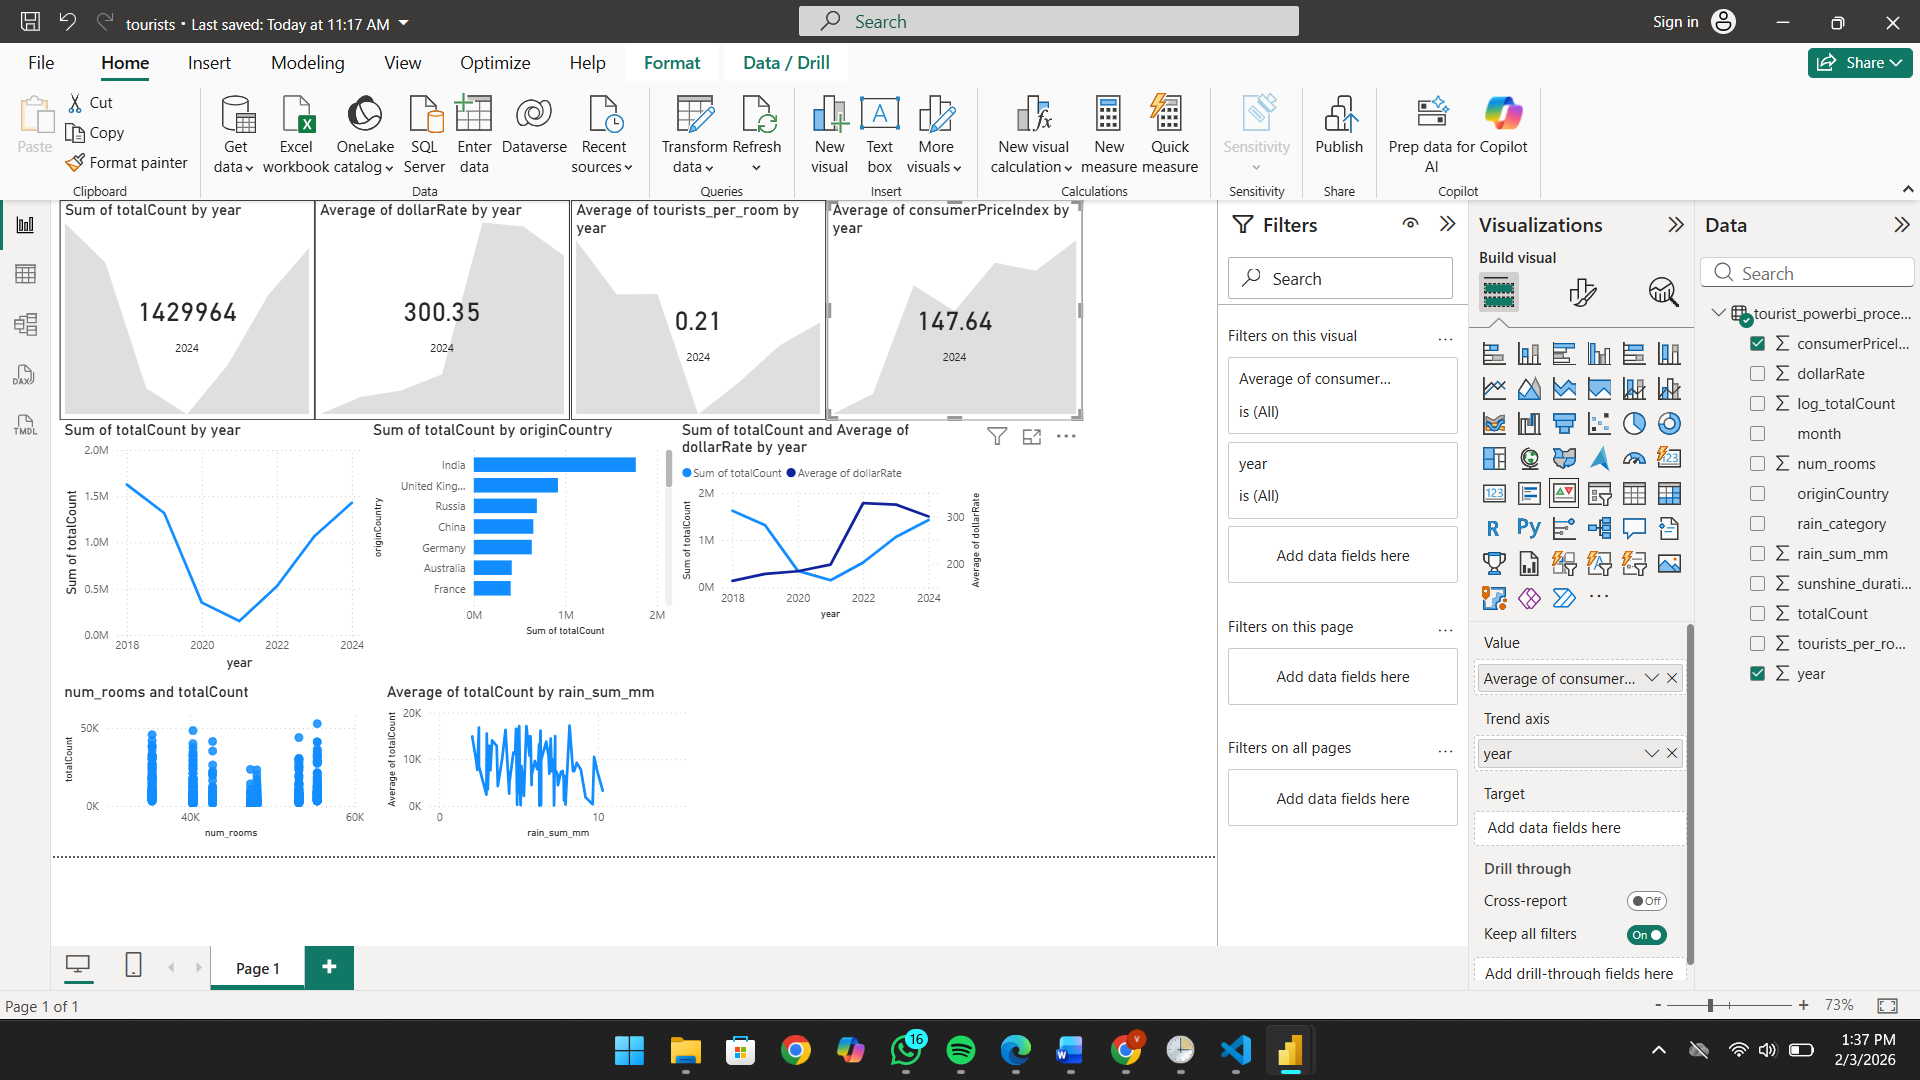

The page's visual inventory and layout, read from the dashboard file:
{"tool":"powerbi","page":{"name":"Page 1","canvas":[1280,720],"ordinal":0},"visuals":[{"type":"kpi","fields":{"Indicator":["Sum(tourist_powerbi_processed.totalCount)"],"TrendLine":["tourist_powerbi_processed.year"]},"box":[9.6,0,279.9,241.5],"z":0},{"type":"kpi","fields":{"Indicator":["Avg(tourist_powerbi_processed.tourists_per_room)"],"TrendLine":["tourist_powerbi_processed.year"]},"box":[570.8,0,279.9,241.5],"z":1000},{"type":"kpi","fields":{"Indicator":["Avg(tourist_powerbi_processed.dollarRate)"],"TrendLine":["tourist_powerbi_processed.year"]},"box":[289.5,0,279.9,241.5],"z":2000},{"type":"kpi","fields":{"Indicator":["Avg(tourist_powerbi_processed.consumerPriceIndex)"],"TrendLine":["tourist_powerbi_processed.year"]},"box":[852.1,0,279.9,241.5],"z":3000},{"type":"lineChart","fields":{"Y":["Sum(tourist_powerbi_processed.totalCount)"],"Category":["tourist_powerbi_processed.year","tourist_powerbi_processed.month"]},"box":[9.6,241.5,338.9,279.9],"z":3001},{"type":"barChart","fields":{"Category":["tourist_powerbi_processed.originCountry"],"Y":["Sum(tourist_powerbi_processed.totalCount)"]},"box":[348.5,241.5,338.9,242.9],"z":3002},{"type":"lineChart","fields":{"Category":["tourist_powerbi_processed.year"],"Y":["Sum(tourist_powerbi_processed.totalCount)"],"Y2":["Avg(tourist_powerbi_processed.dollarRate)"]},"box":[687.5,241.5,338.9,223.7],"z":3003},{"type":"scatterChart","fields":{"Y":["tourist_powerbi_processed.totalCount"],"X":["tourist_powerbi_processed.num_rooms"]},"box":[9.6,529.7,338.9,175.6],"z":3004},{"type":"lineChart","fields":{"Category":["tourist_powerbi_processed.rain_sum_mm"],"Y":["Avg(tourist_powerbi_processed.totalCount)"]},"box":[363.6,529.7,338.9,175.6],"z":3005}]}

Visuals, with their boxes on the page's 1280x720 design canvas (x1, y1, x2, y2). These are canvas units, not pixel positions in the 1920x1080 screenshot, which may show the page scaled, cropped or inside an application window:
kpi - Sum(tourist_powerbi_processed.totalCount) x tourist_powerbi_processed.year: [10,0,290,242]
kpi - Avg(tourist_powerbi_processed.tourists_per_room) x tourist_powerbi_processed.year: [571,0,851,242]
kpi - Avg(tourist_powerbi_processed.dollarRate) x tourist_powerbi_processed.year: [290,0,569,242]
kpi - Avg(tourist_powerbi_processed.consumerPriceIndex) x tourist_powerbi_processed.year: [852,0,1132,242]
lineChart - Sum(tourist_powerbi_processed.totalCount) x tourist_powerbi_processed.year: [10,242,348,521]
barChart - tourist_powerbi_processed.originCountry x Sum(tourist_powerbi_processed.totalCount): [348,242,687,484]
lineChart - tourist_powerbi_processed.year x Sum(tourist_powerbi_processed.totalCount): [688,242,1026,465]
scatterChart - tourist_powerbi_processed.totalCount x tourist_powerbi_processed.num_rooms: [10,530,348,705]
lineChart - tourist_powerbi_processed.rain_sum_mm x Avg(tourist_powerbi_processed.totalCount): [364,530,702,705]
